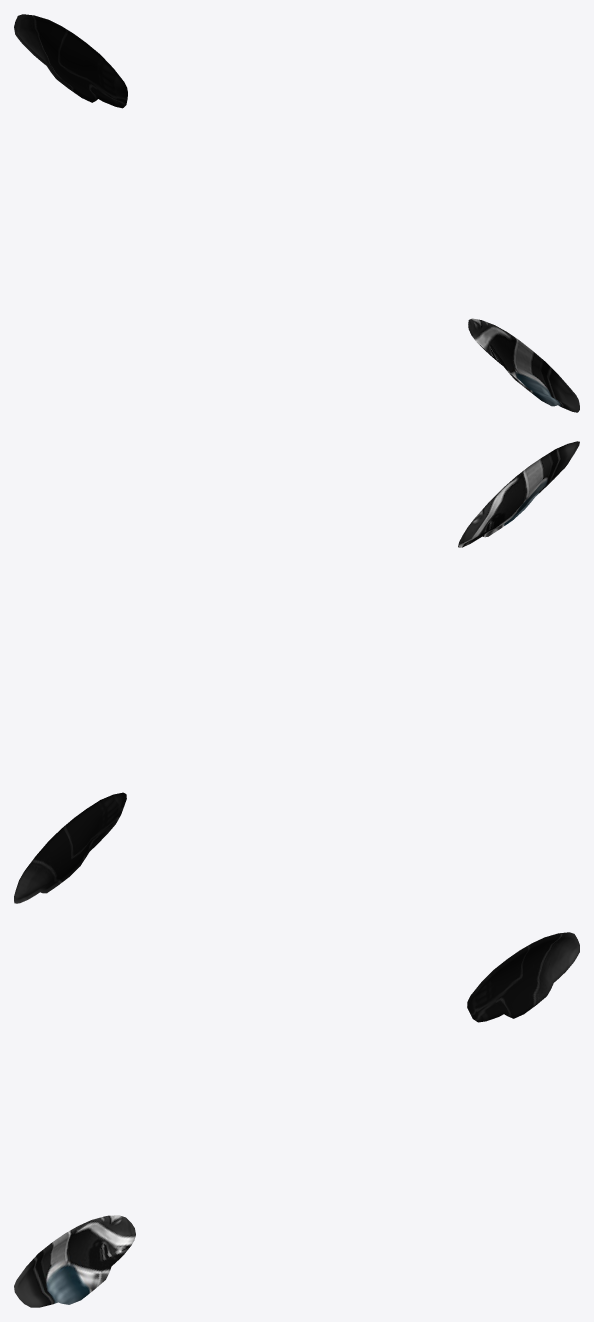
Rendered from R_cavity.glb.
3 views of the same model, one above another, from view 1: azimuth 30°, elevation 25°; view 2: azimuth 150°, elevation 25°; view 3: azimuth 330°, elevation 25° (orthographic). The views are drawn at different scales.
Visible parts, largest first — view 1: R_cavity; view 2: R_cavity; view 3: R_cavity.
Part boxes in pixels (<box>): R_cavity: <box>14,14,579,412</box>; R_cavity: <box>14,441,579,903</box>; R_cavity: <box>14,932,579,1307</box>.
Bounding box in the file's own units: 0.0371 × 0.1354 × 1.41.
Materials: 1 (1 with a texture image).
